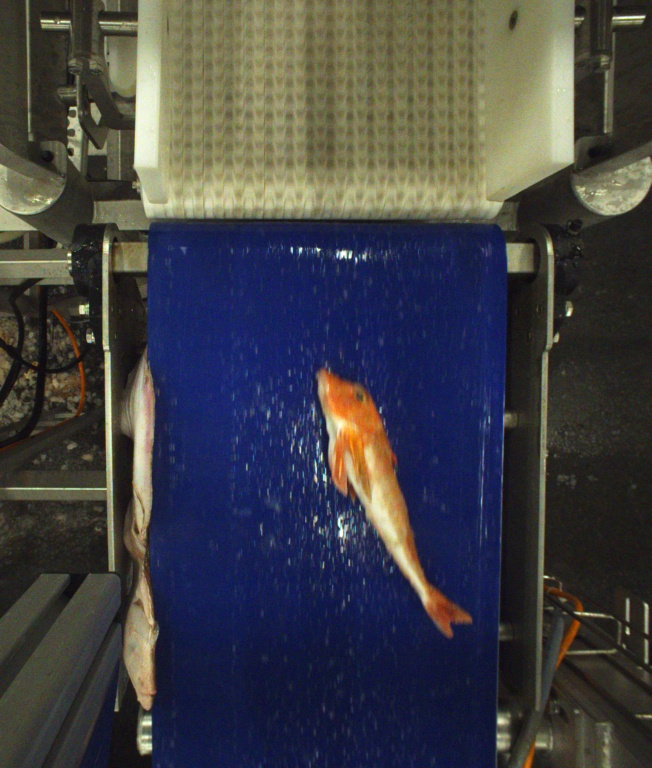GUU: (314, 370, 468, 635)
